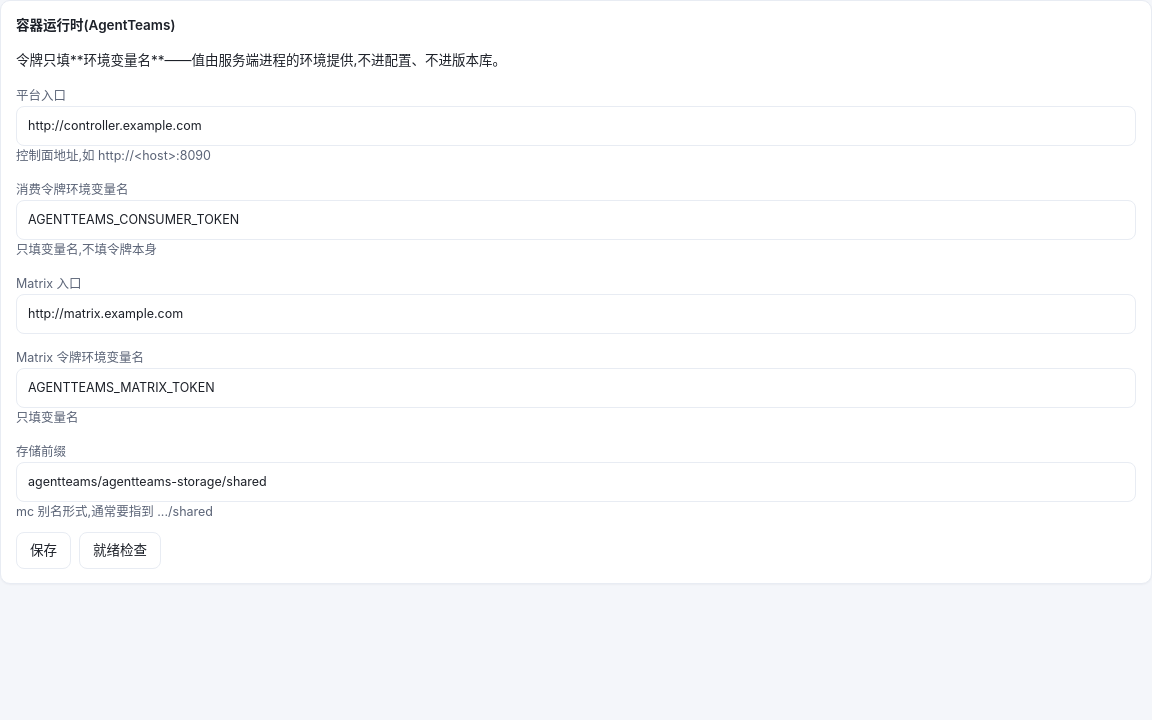
ContainerRuntimeCard › 保存失败时把原因说出来,且不假装已生效
What coordinates should you click on to do the following:
click the button "保存"
I would click on:
 (44, 550)
Its box is x1=16 y1=532 x2=71 y2=569.
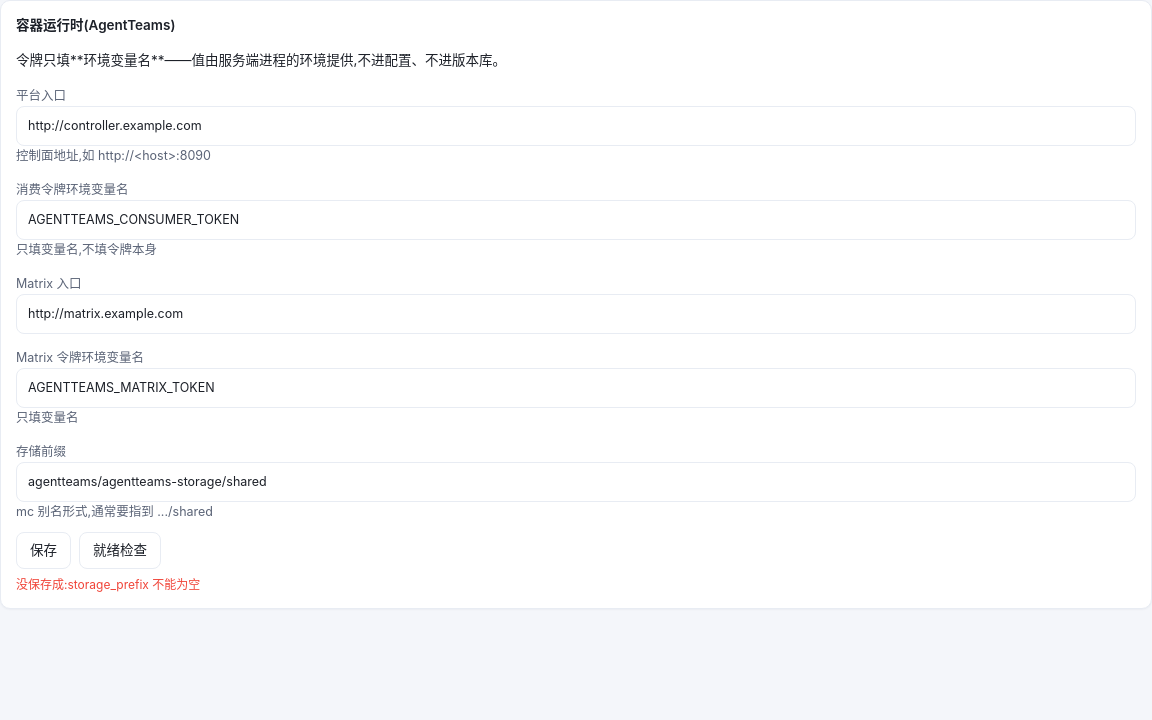
Expected: the text "没保存成:storage_prefix 不能为空" is shown, x1=16 y1=577 x2=200 y2=592
